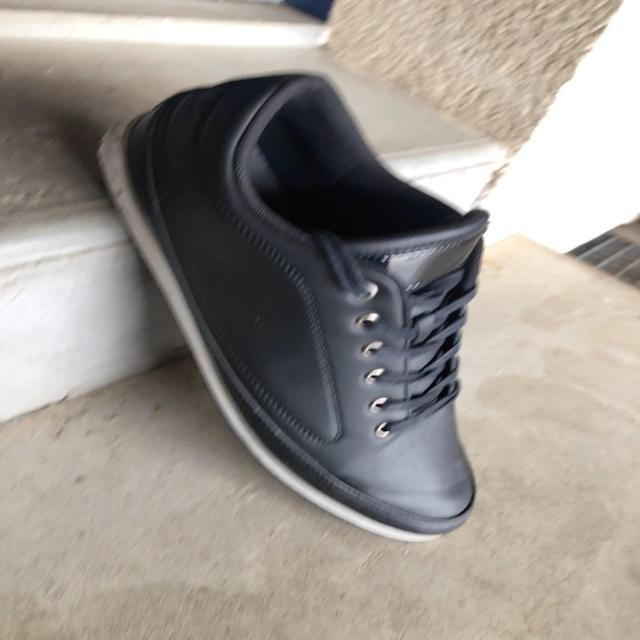shoe: (101, 73, 490, 545)
